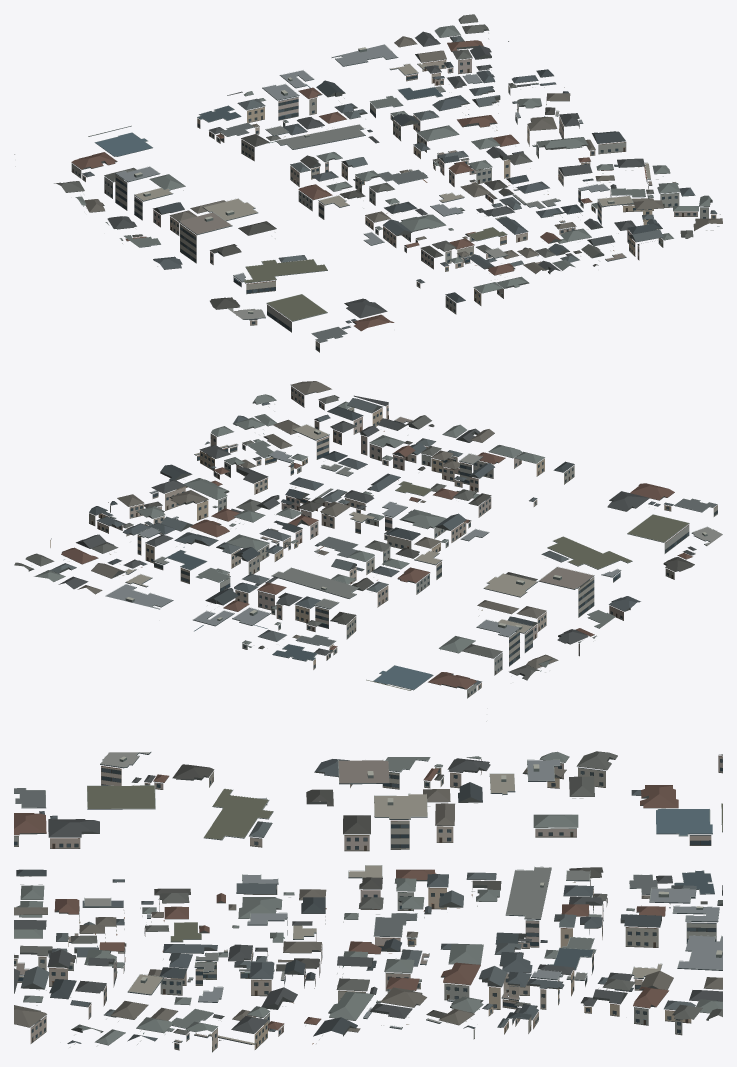
The picture shows the model from 3 angles, top to bottom: view 1: azimuth 30°, elevation 25°; view 2: azimuth 150°, elevation 25°; view 3: azimuth 270°, elevation 25°; orthographic projection. The views are drawn at different scales.
Visible parts, largest first — view 1: r2-c7; view 2: r2-c7; view 3: r2-c7.
Part boxes in pixels (box(x1,y1,x2,y2)): r2-c7: box(14, 14, 722, 352); r2-c7: box(14, 381, 722, 721); r2-c7: box(14, 751, 722, 1052).
Size of the model in its own units: 250 by 25.17 by 250.
